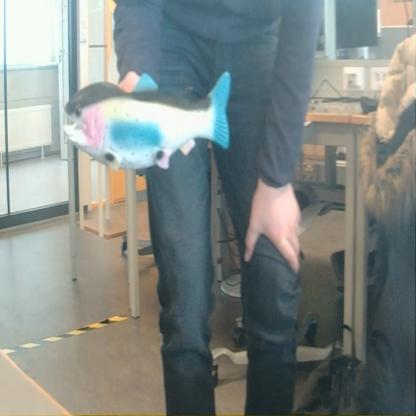rubberfish: (54, 62, 234, 177)
